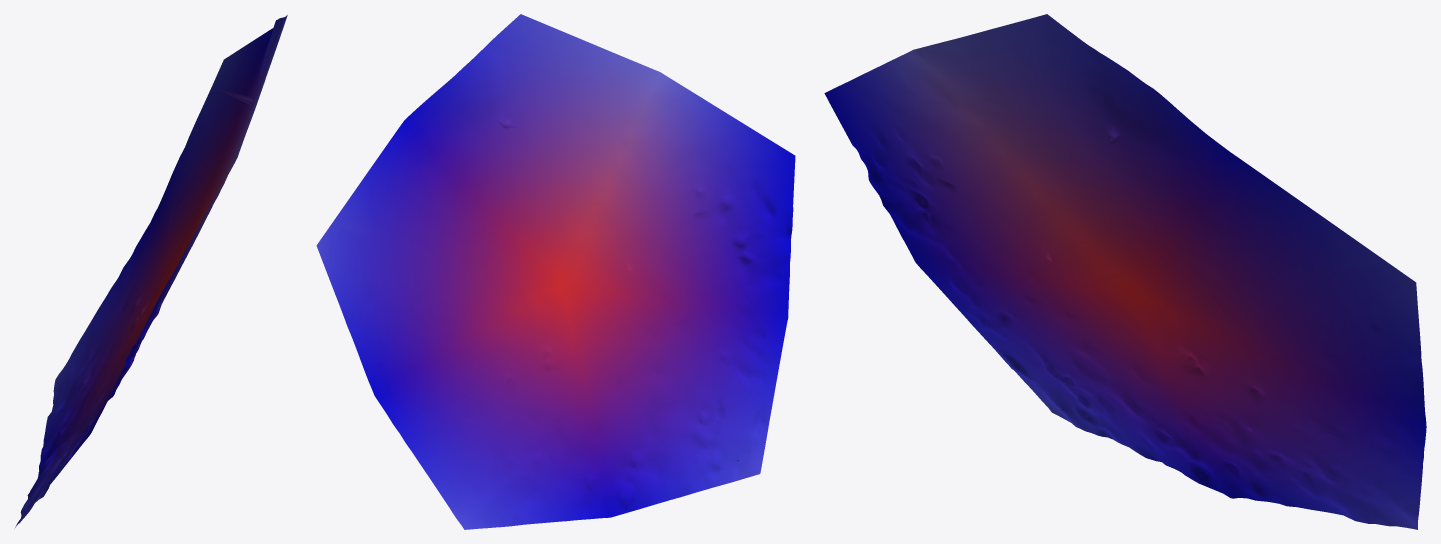
Rendered from Hex_41.fbx.
The picture shows the model from 3 angles, left to right: view 1: azimuth 30°, elevation 25°; view 2: azimuth 150°, elevation 25°; view 3: azimuth 270°, elevation 25°; orthographic projection. The views are drawn at different scales.
Parts seen in each view (by area): view 1: Hex_41; view 2: Hex_41; view 3: Hex_41.
Boxes of the visible parts, left/top/right/bottom form: Hex_41: left=15, top=15, right=287, bottom=527; Hex_41: left=316, top=14, right=795, bottom=529; Hex_41: left=824, top=14, right=1426, bottom=529.
Size of the model in its own units: 292 by 371 by 343.
